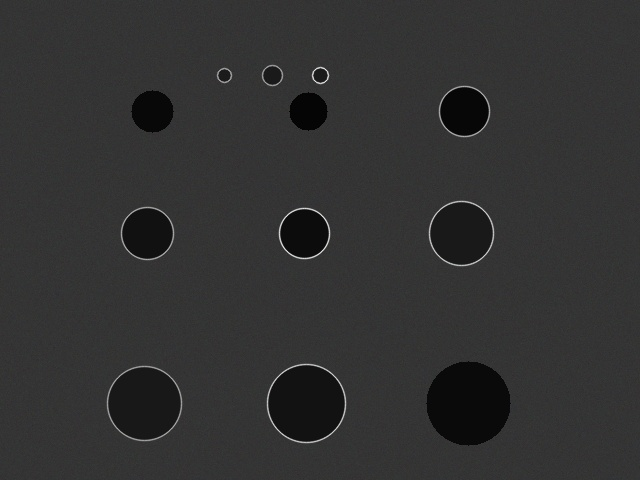hole: (426, 361, 510, 445), (267, 364, 345, 442), (107, 366, 181, 440), (429, 201, 493, 265), (121, 207, 173, 259), (439, 86, 489, 136), (279, 208, 329, 258), (131, 90, 173, 132), (289, 92, 327, 130), (262, 65, 282, 85), (312, 67, 328, 83), (217, 68, 231, 82)
